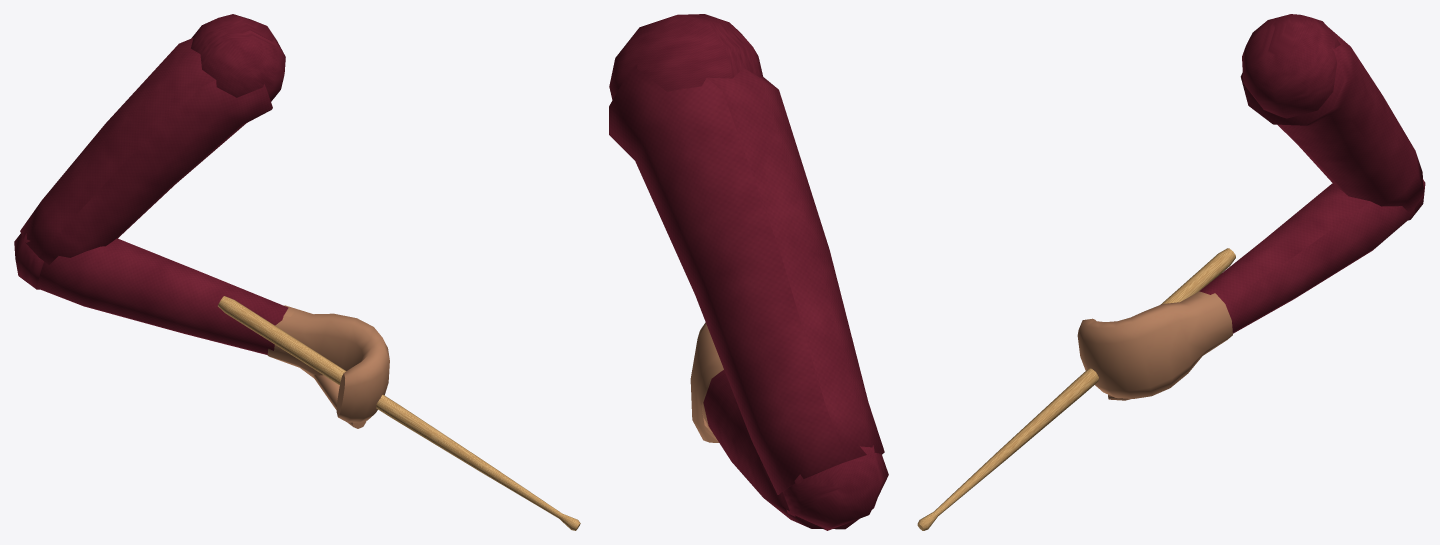
Rendered from brazoder.obj.
3 renders of one model, left to right at view 1: azimuth 30°, elevation 25°; view 2: azimuth 150°, elevation 25°; view 3: azimuth 270°, elevation 25°, orthographic. The views are drawn at different scales.
Parts seen in each view (by area): view 1: tarola_BrazoDer, tarola_AntebrazoDer, tarola_ManoDer, tarola_HombroDer, tarola_BaquetaDer, tarola_CodoDer; view 2: tarola_BrazoDer, tarola_HombroDer, tarola_CodoDer, tarola_AntebrazoDer, tarola_ManoDer; view 3: tarola_AntebrazoDer, tarola_BrazoDer, tarola_ManoDer, tarola_HombroDer, tarola_BaquetaDer.
Part boxes in pixels (x1=…): tarola_BrazoDer: x1=20, y1=37, x2=272, y2=264; tarola_AntebrazoDer: x1=37, y1=238, x2=295, y2=354; tarola_ManoDer: x1=267, y1=305, x2=389, y2=428; tarola_HombroDer: x1=191, y1=14, x2=285, y2=101; tarola_BaquetaDer: x1=218, y1=296, x2=580, y2=530; tarola_CodoDer: x1=14, y1=233, x2=43, y2=289; tarola_BrazoDer: x1=609, y1=64, x2=884, y2=494; tarola_HombroDer: x1=609, y1=14, x2=762, y2=99; tarola_CodoDer: x1=783, y1=445, x2=888, y2=530; tarola_AntebrazoDer: x1=699, y1=370, x2=877, y2=529; tarola_ManoDer: x1=690, y1=322, x2=723, y2=442; tarola_AntebrazoDer: x1=1195, y1=183, x2=1414, y2=333; tarola_BrazoDer: x1=1240, y1=26, x2=1424, y2=212; tarola_ManoDer: x1=1077, y1=293, x2=1232, y2=400; tarola_HombroDer: x1=1242, y1=14, x2=1340, y2=118; tarola_BaquetaDer: x1=917, y1=248, x2=1235, y2=530.
Size of the model in its own units: 0.3726 by 0.4397 by 0.4704.
3 materials, 3 textured.
